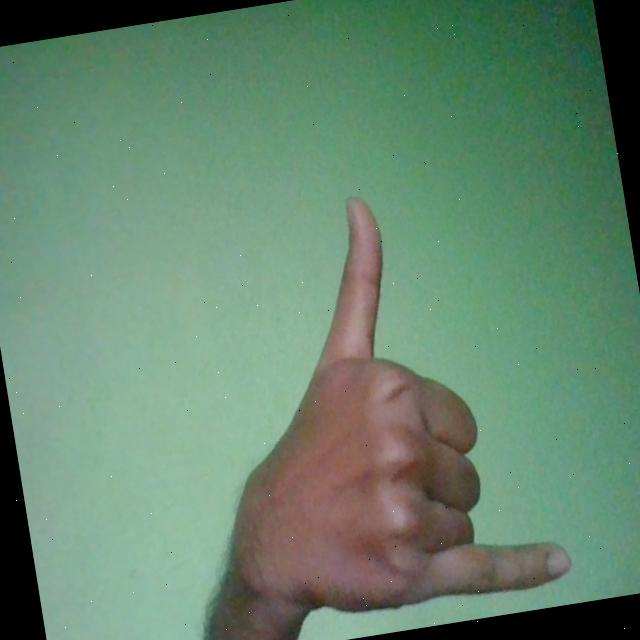Call Me: (175, 168, 574, 634)
